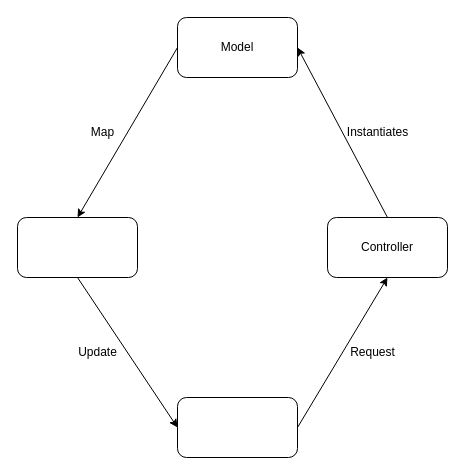
Image size: 465x475. Some labels were removed from this diagram. The centre of each missing label's shape, as x and y in pixels:
"Client" goes at [237,427].
"DTO / View Model" goes at [77,247].
